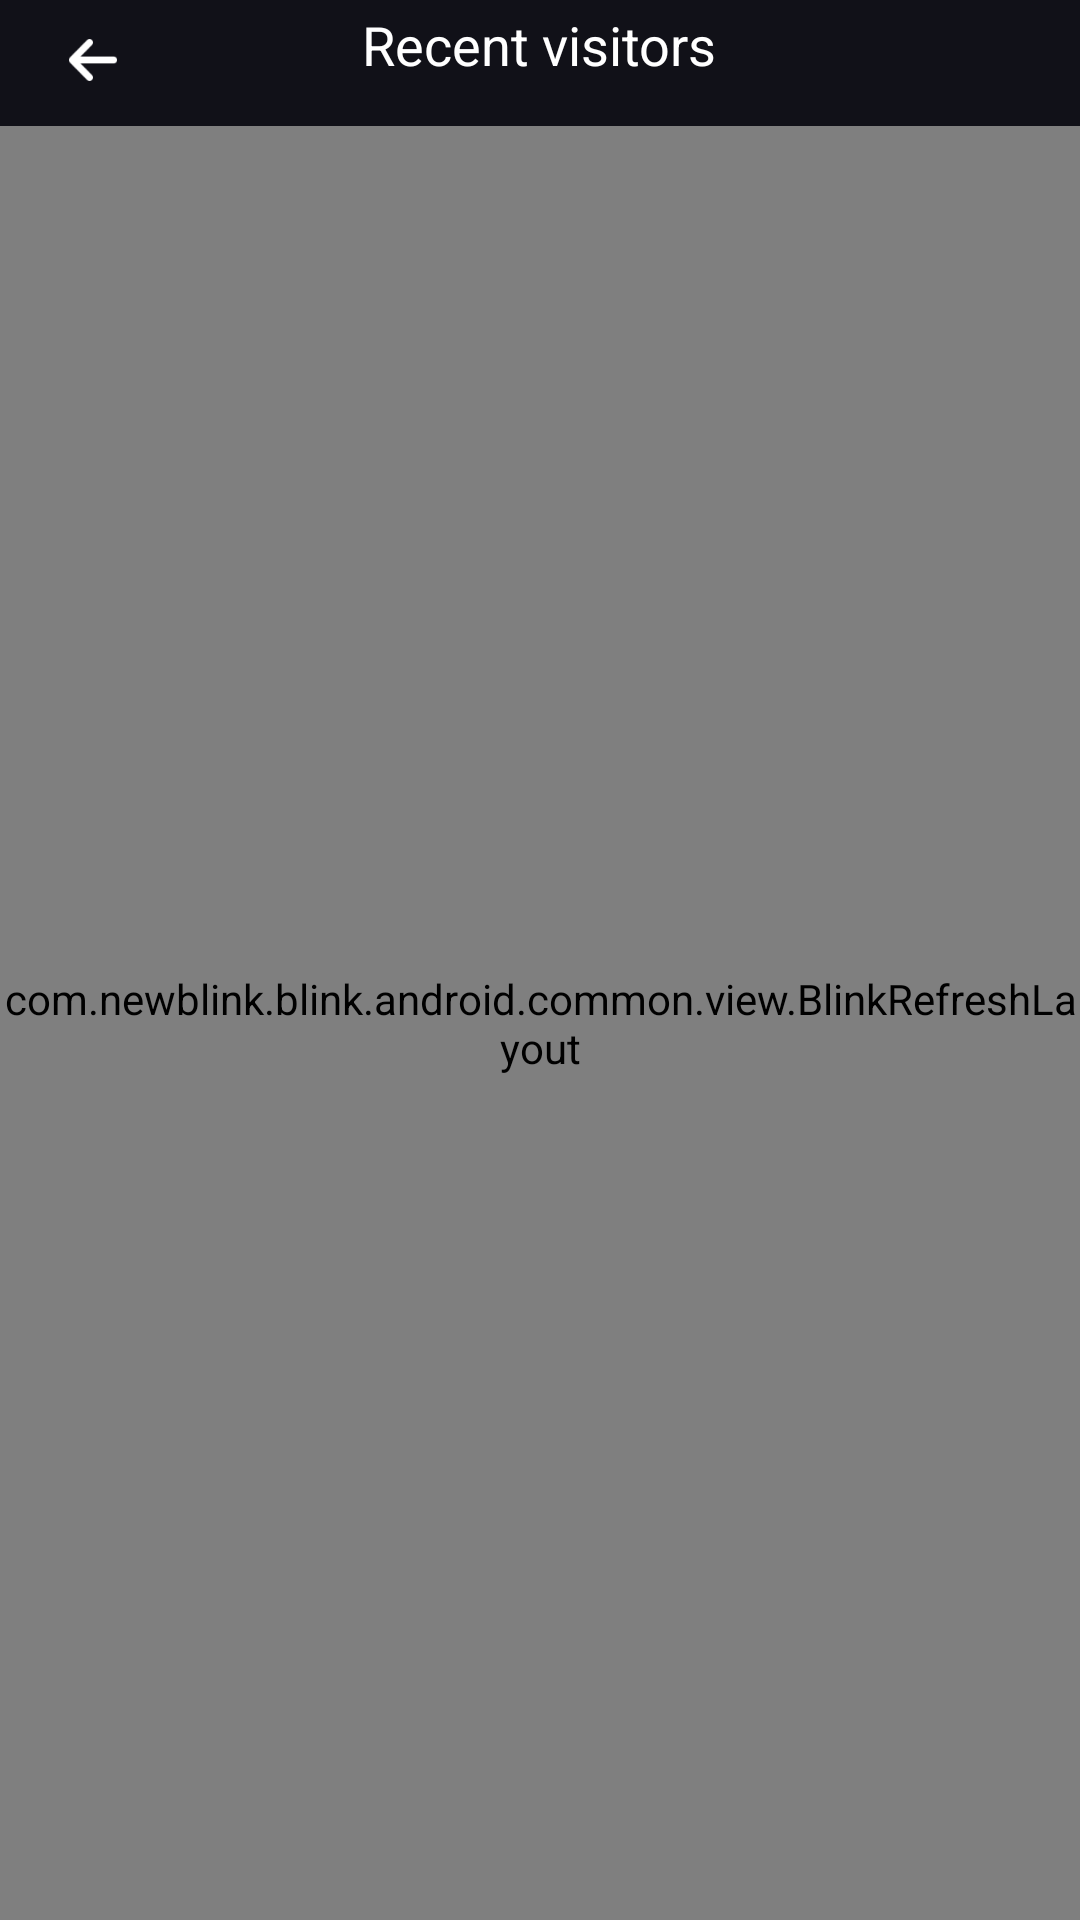

Icon bounding boxes for this 1080×1920 phone screenshot, format (x1, y1, x2, y2):
back up: (69, 39, 117, 81)
